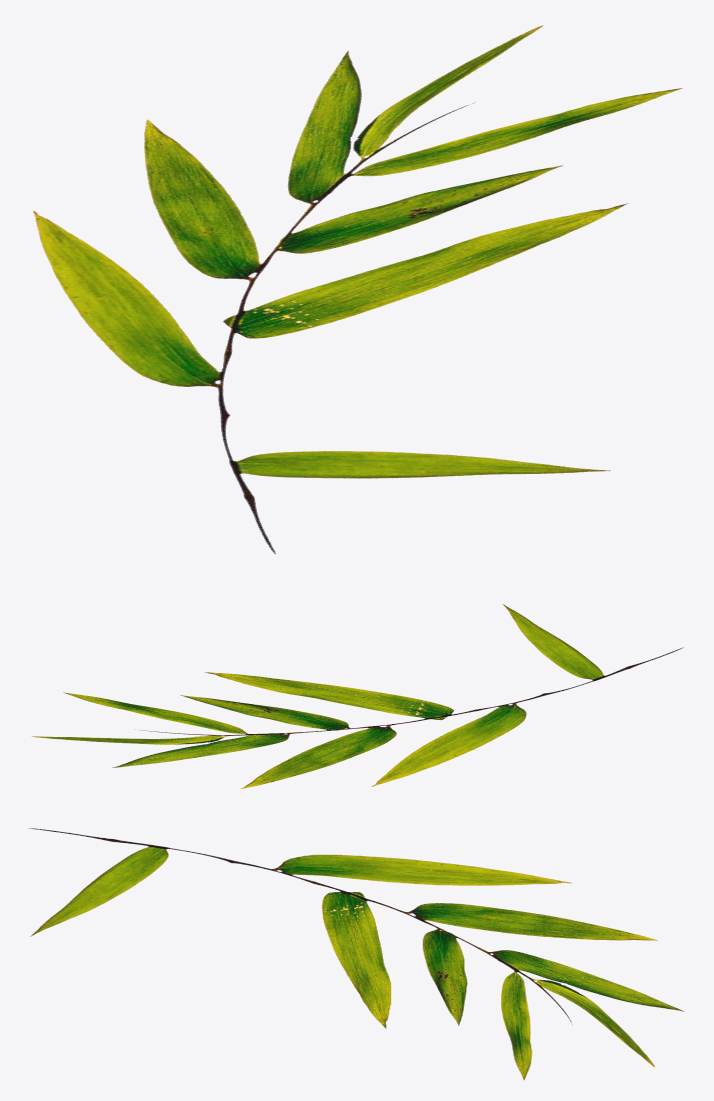
The model's file is leaf model.fbx.
3 renders of one model, top to bottom at view 1: azimuth 30°, elevation 25°; view 2: azimuth 150°, elevation 25°; view 3: azimuth 270°, elevation 25°, orthographic. The views are drawn at different scales.
Parts seen in each view (by area): view 1: leaves_origional; view 2: leaves_origional; view 3: leaves_origional.
Part boxes in pixels (x1,y1,x2,y2): leaves_origional: (33,25,682,554); leaves_origional: (31,604,683,788); leaves_origional: (28,828,684,1080).
Size of the model in its own units: 0.9386 by 3.85e-17 by 1.03.
